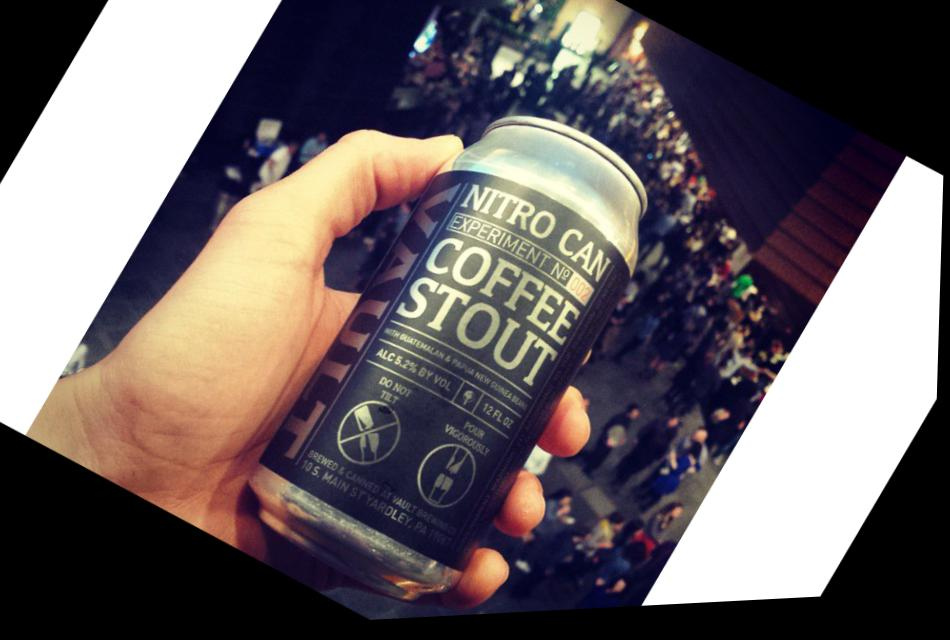metal: (247, 116, 648, 600), (258, 170, 631, 573)
